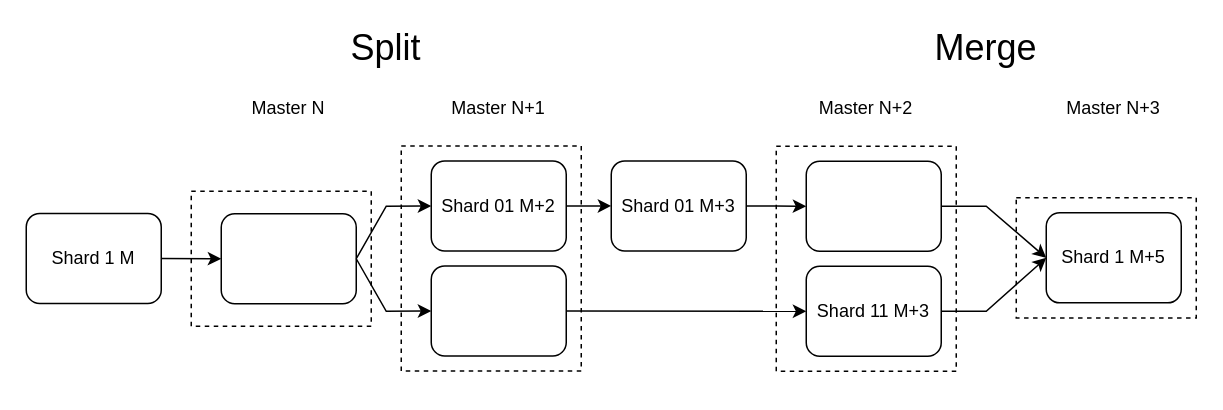
The diagram is 1223 pixels wide and 410 high, and some of its shapes have lost their labels. The shapes that lost their labels are listed below. From the top down, each one's centre as x and y in pixels, then its label:
pixel 873 205: Shard 01 M+4
pixel 288 258: Shard 1 M+1
pixel 498 310: Shard 11 M+2
